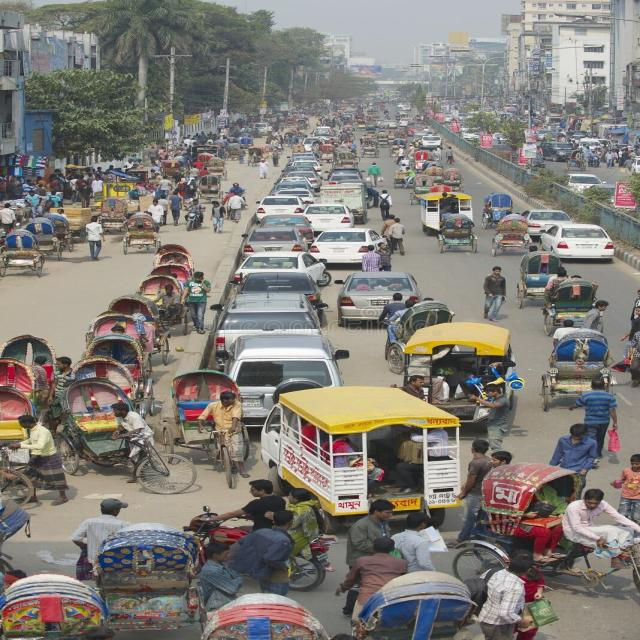Car: (329, 273, 430, 328), (313, 225, 385, 271), (540, 224, 622, 262), (237, 252, 320, 287), (241, 228, 315, 260), (256, 194, 310, 222), (303, 203, 357, 230)
Leguna: (259, 387, 466, 532), (400, 326, 518, 439)
Rickshaw: (454, 464, 640, 592), (57, 379, 199, 509), (87, 522, 206, 638), (169, 362, 257, 490), (434, 208, 479, 264), (1, 231, 50, 281), (120, 208, 164, 260), (26, 214, 66, 267), (490, 214, 533, 258), (483, 189, 519, 227), (100, 200, 133, 235)
pedestrian: (575, 380, 626, 455), (606, 456, 640, 522), (472, 266, 510, 325), (83, 216, 110, 265), (374, 185, 401, 222), (388, 220, 410, 255), (363, 164, 386, 193), (211, 202, 230, 235)
